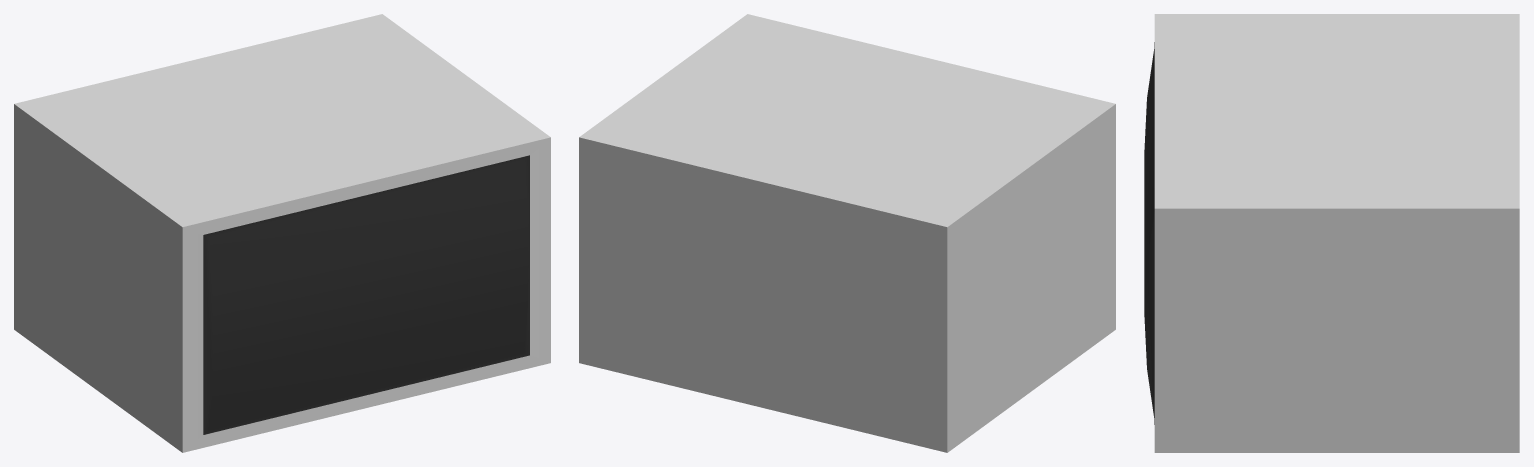
File: B_Moniter.fbx
3 renders of one model, left to right at view 1: azimuth 30°, elevation 25°; view 2: azimuth 150°, elevation 25°; view 3: azimuth 270°, elevation 25°, orthographic. The views are drawn at different scales.
Visible parts, largest first — view 1: B_Moniter; view 2: B_Moniter; view 3: B_Moniter.
Boxes of the visible parts, left/top/right/bottom form: B_Moniter: left=14, top=14, right=550, bottom=452; B_Moniter: left=579, top=14, right=1115, bottom=452; B_Moniter: left=1144, top=14, right=1519, bottom=452.
Bounding box in the file's own units: 2.53 × 1.48 × 2.06.
Materials: 2 (2 with a texture image).
